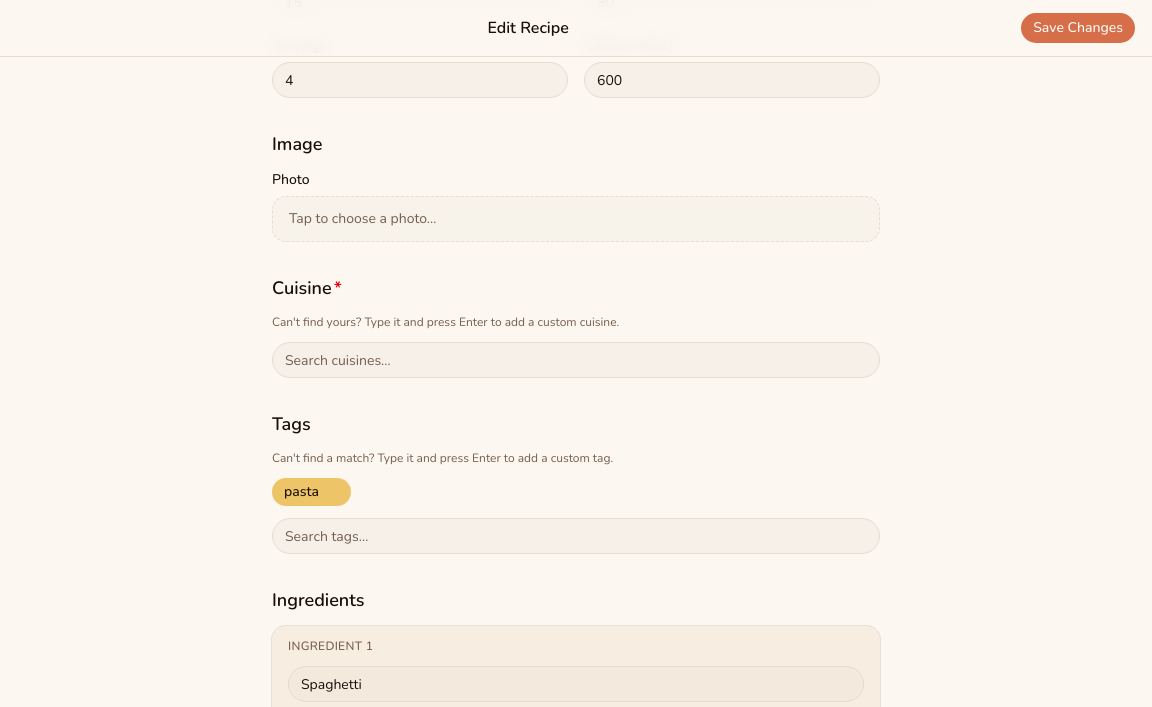
Test: EditRecipeForm › cuisine › sets a custom cuisine as a chip when Enter is pressed in the cuisine input
(page scrolled)
Step 1. Type "Guyanese" into the field with placeholder "Search cuisines…" → (576, 360), box [272,342,880,378]
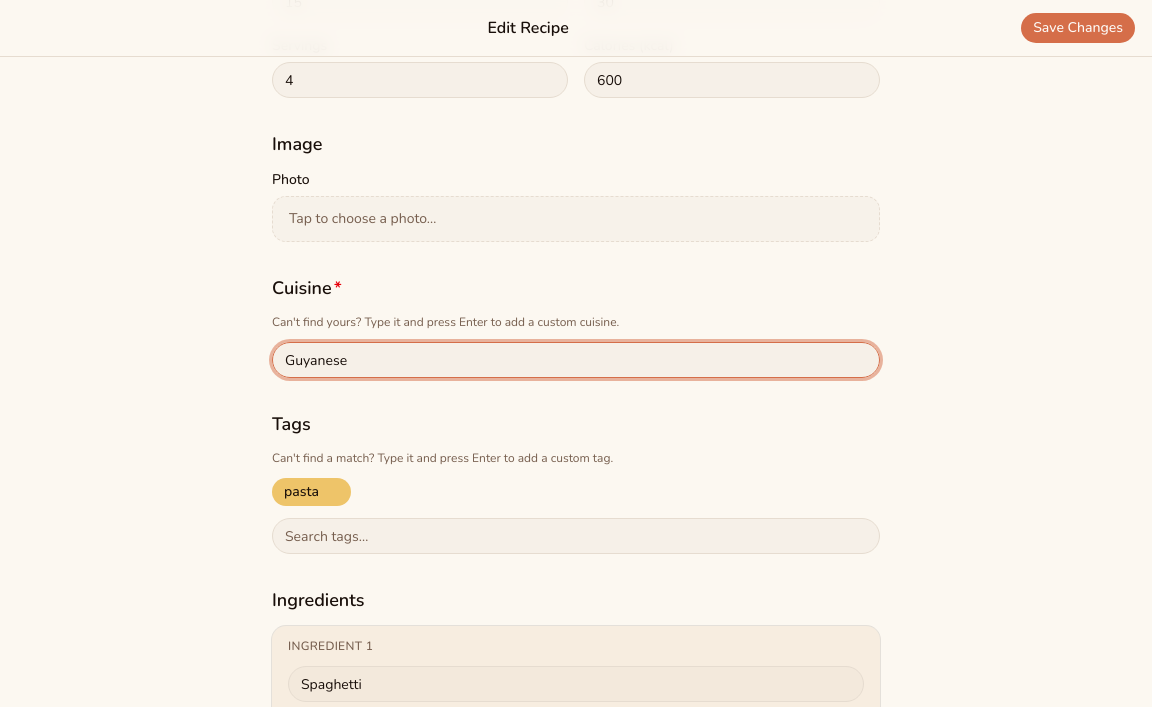
Step 2. Press Enter
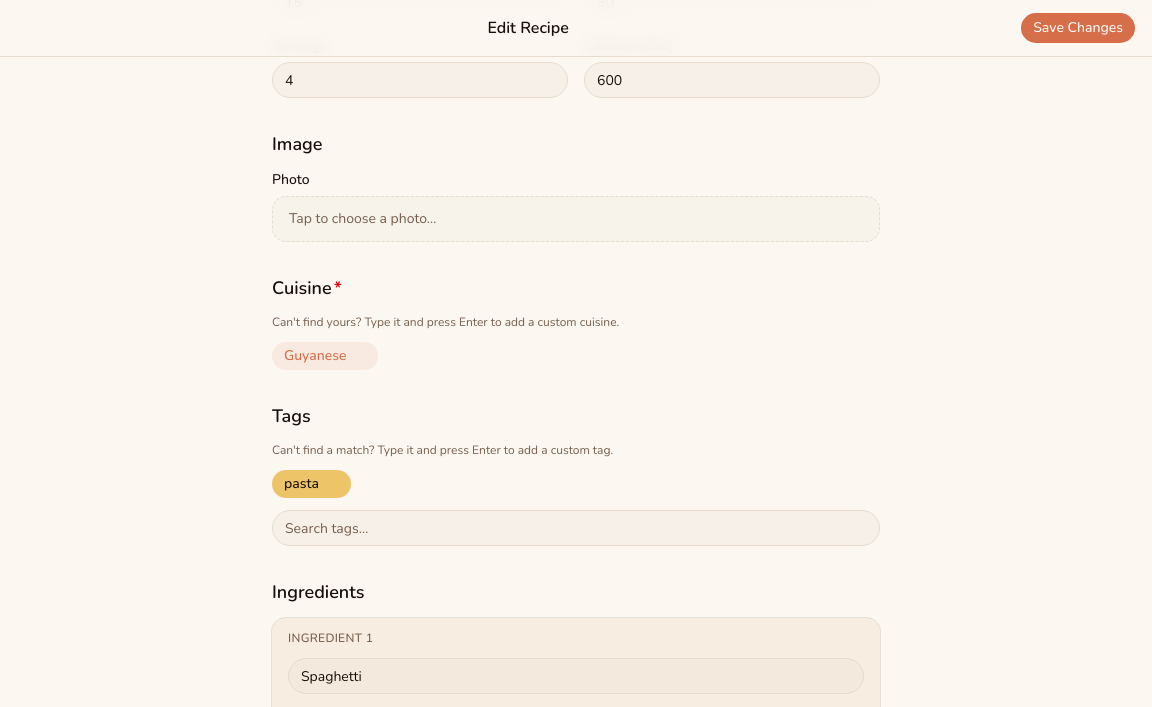
Expected: the field with placeholder "Search cuisines…" is not shown
Expected: the text "Guyanese" is shown, [272,342,378,370]
